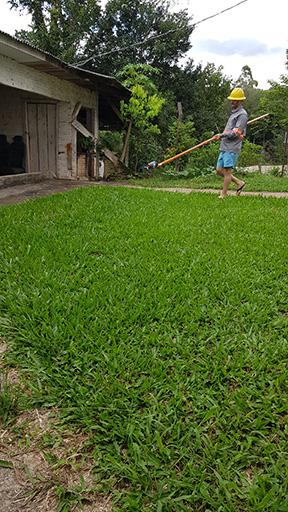Vara_Manobra: (158, 111, 271, 168)
